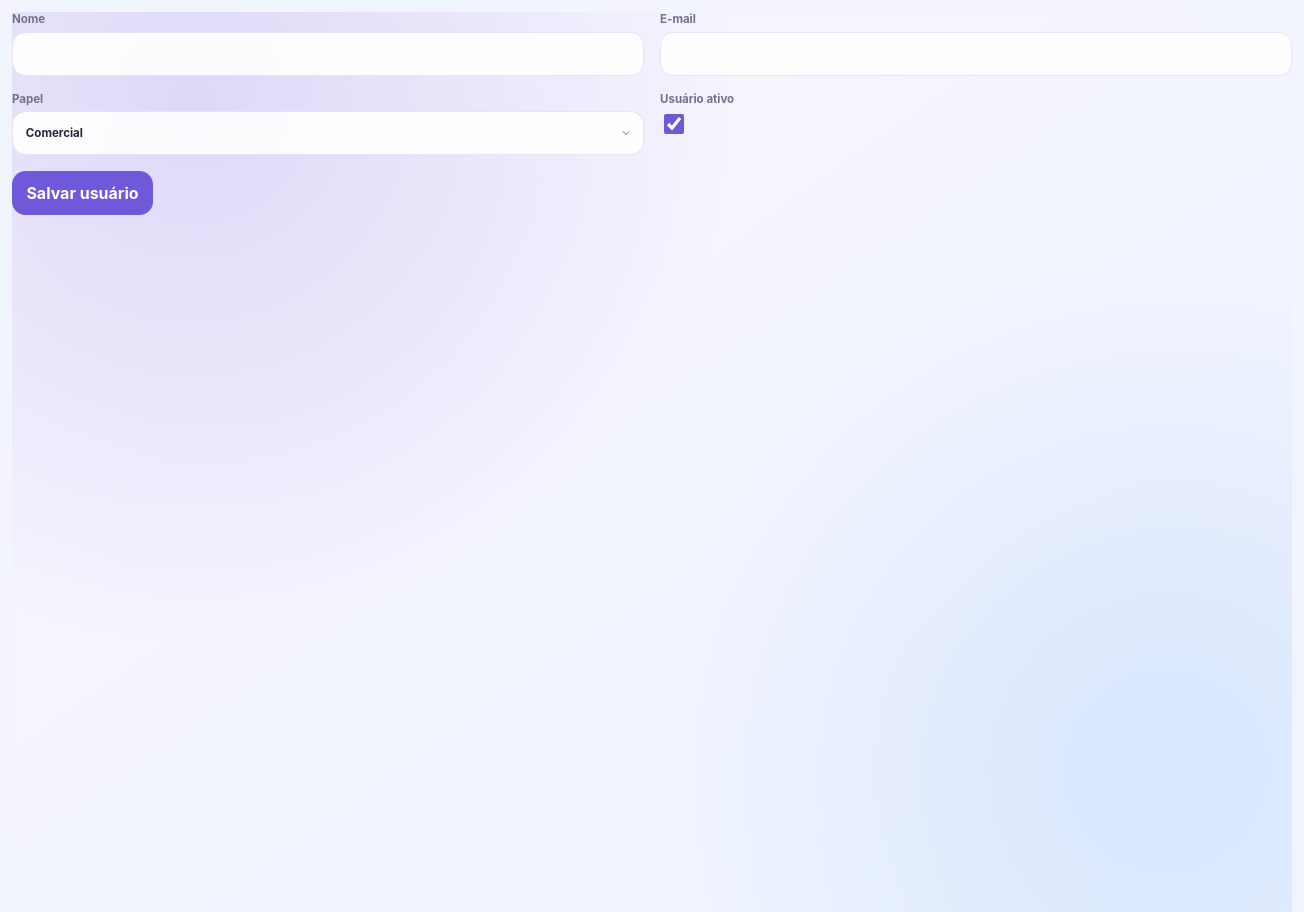
administração de usuários › valida e cria um usuário simulado com nome, email, papel e estado ativo
This screenshot has width=1304, height=912.
Step 1. Click the button "Salvar usuário" → (82, 193), box [12,171,153,215]
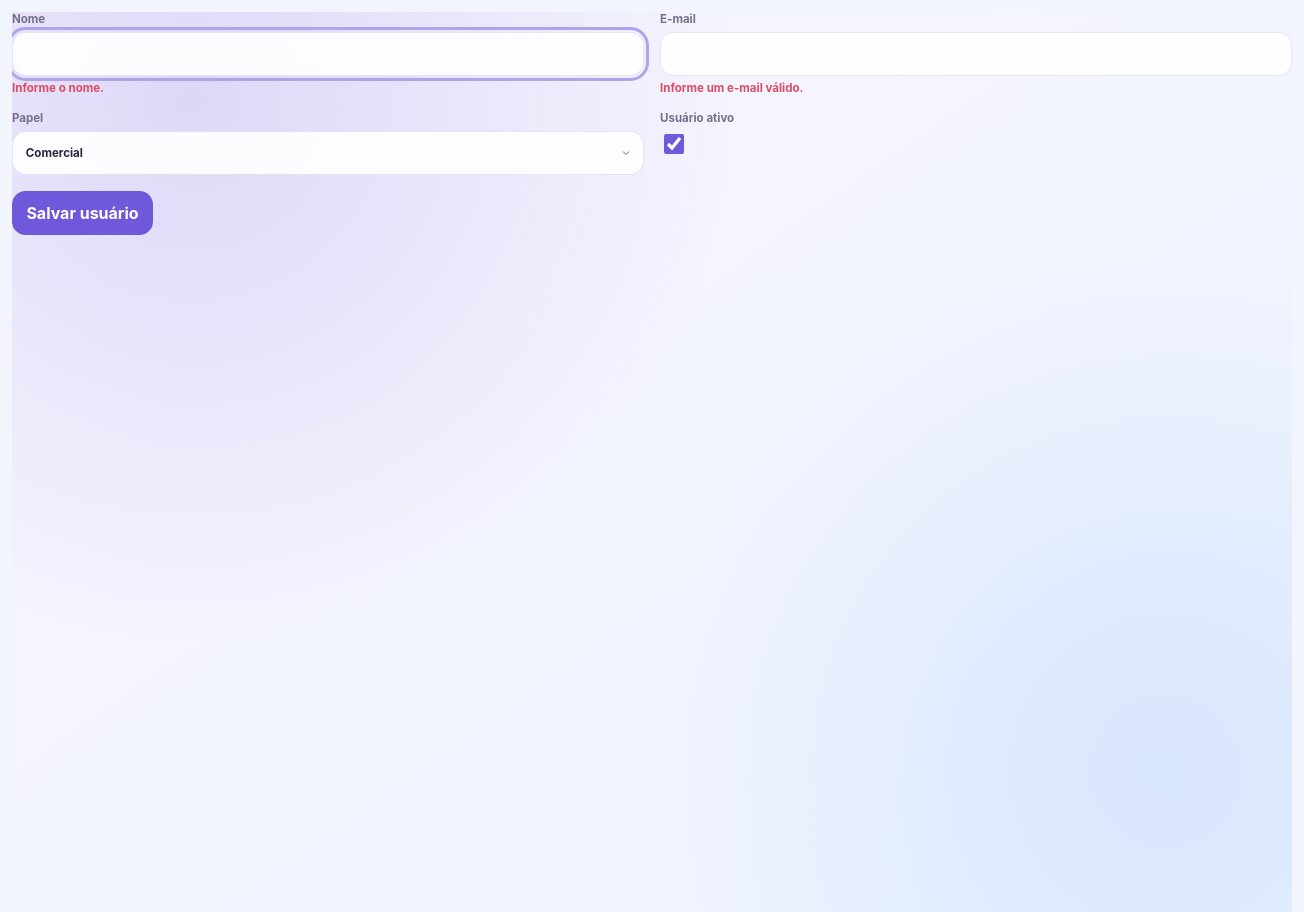
Now the text "Informe o nome." is shown, box [12,81,104,95]
Now the text "Informe um e-mail válido." is shown, box [660,81,803,95]
Step 2. Type "Ana Comercial" into the field labelled "Nome" → (328, 54), box [12,32,644,76]
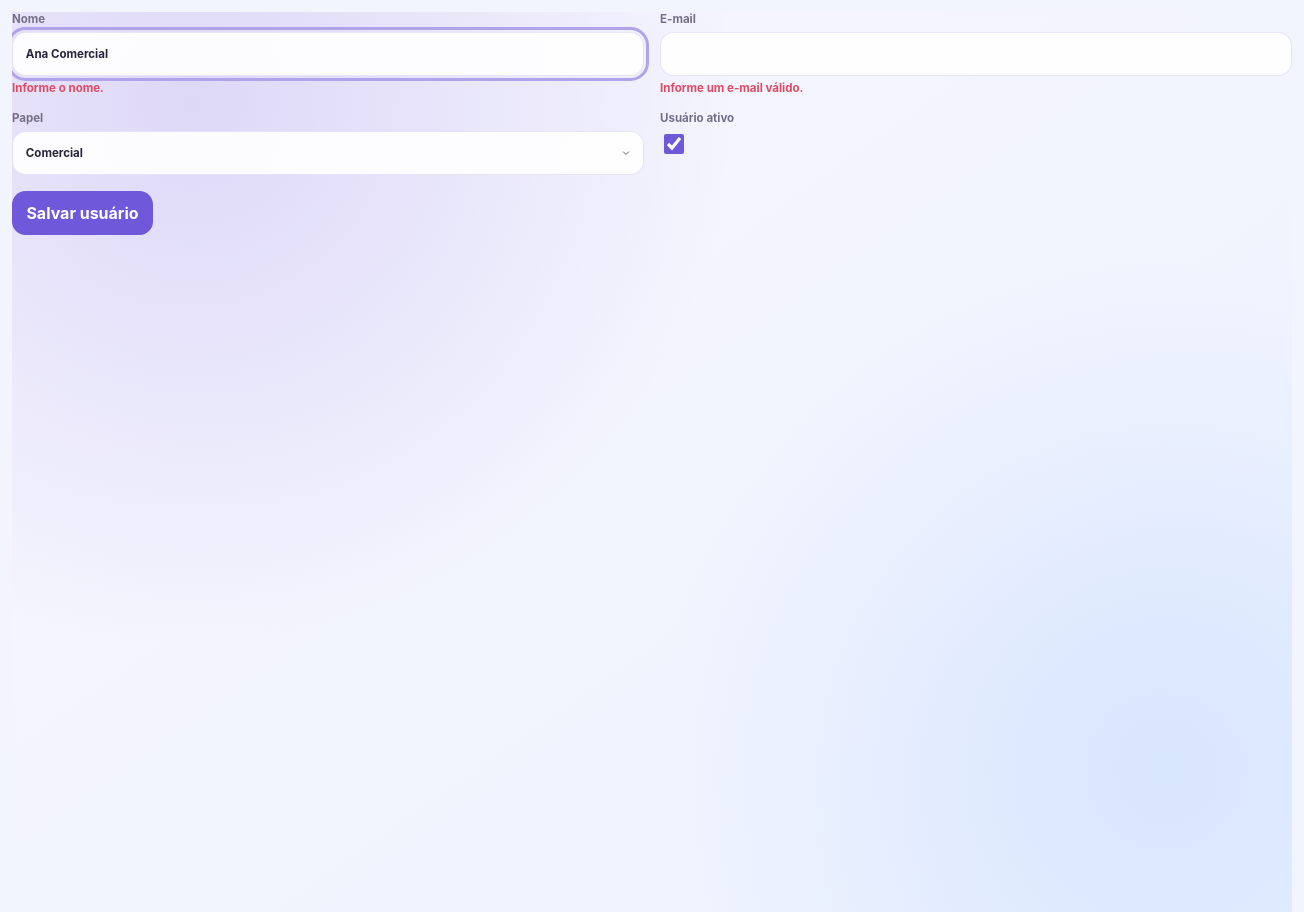
Step 3. Type "ana@ogurarep.local" into the field labelled "E-mail" → (976, 54), box [660,32,1292,76]
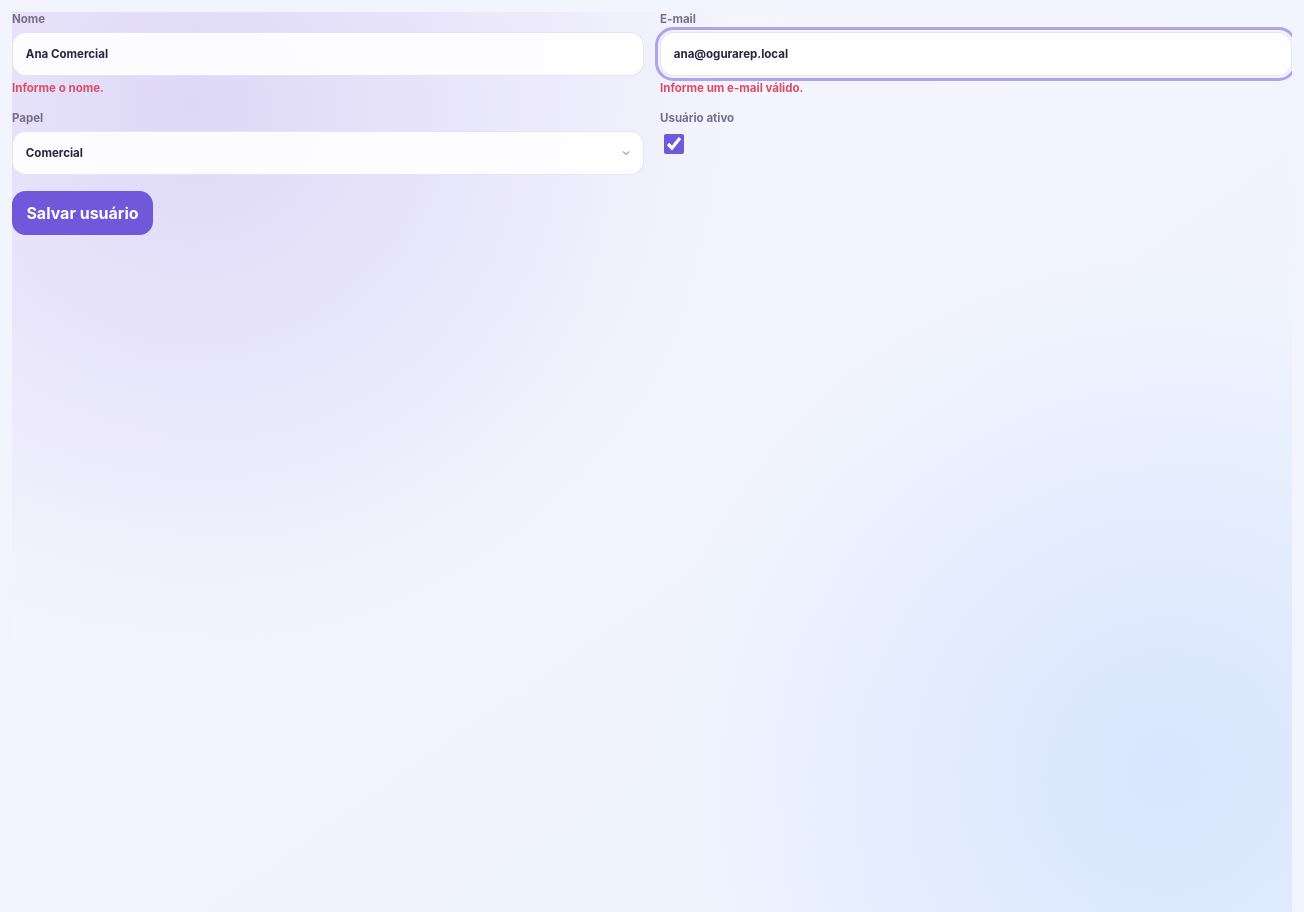
Step 4. Select "Comercial" in the dropdown labelled "Papel" → (328, 153), box [12,131,644,175]
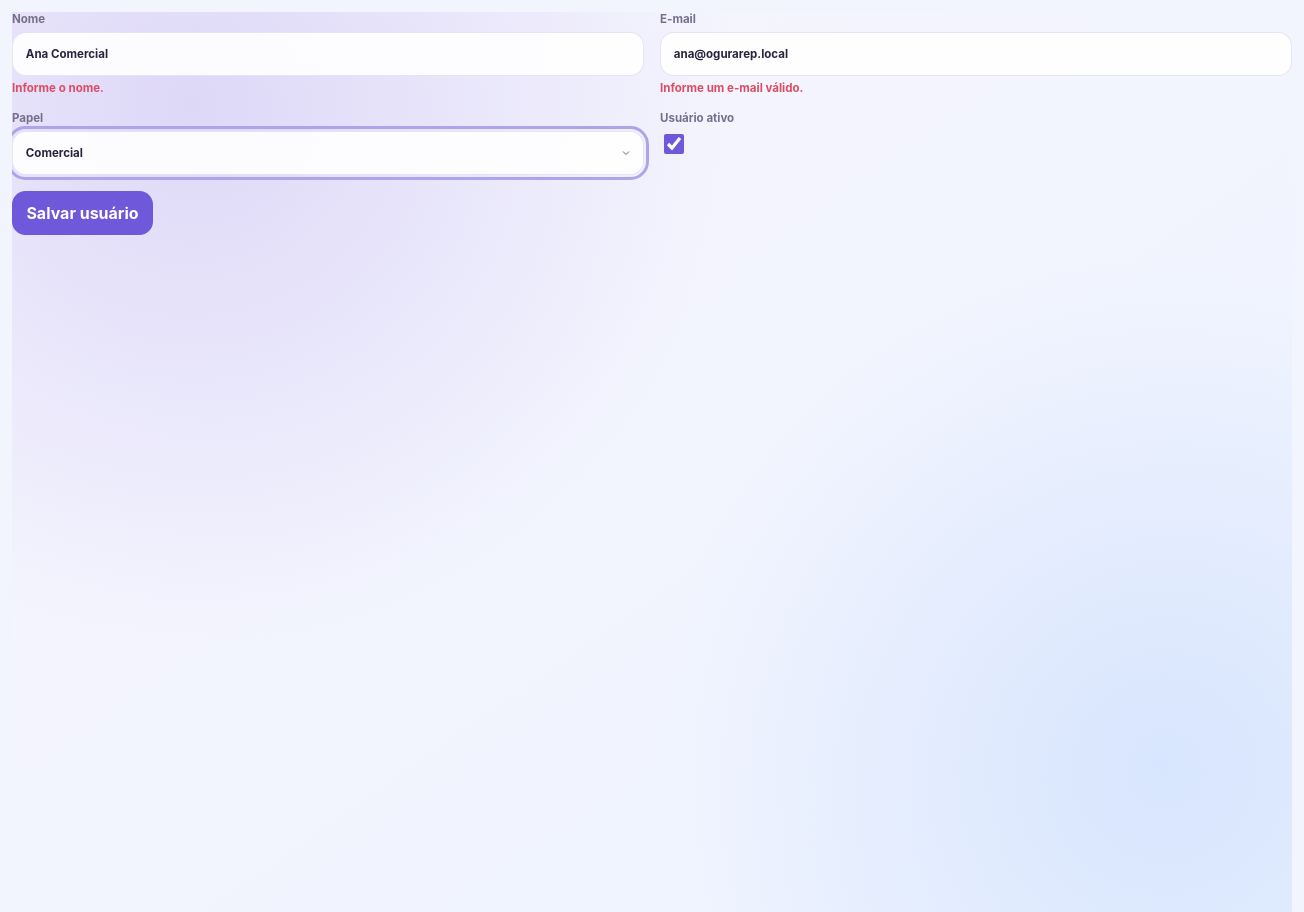
Expected: the checkbox labelled "Usuário ativo" is checked, [664,134,684,154]
Step 5. Click the button "Salvar usuário" → (82, 213), box [12,191,153,235]
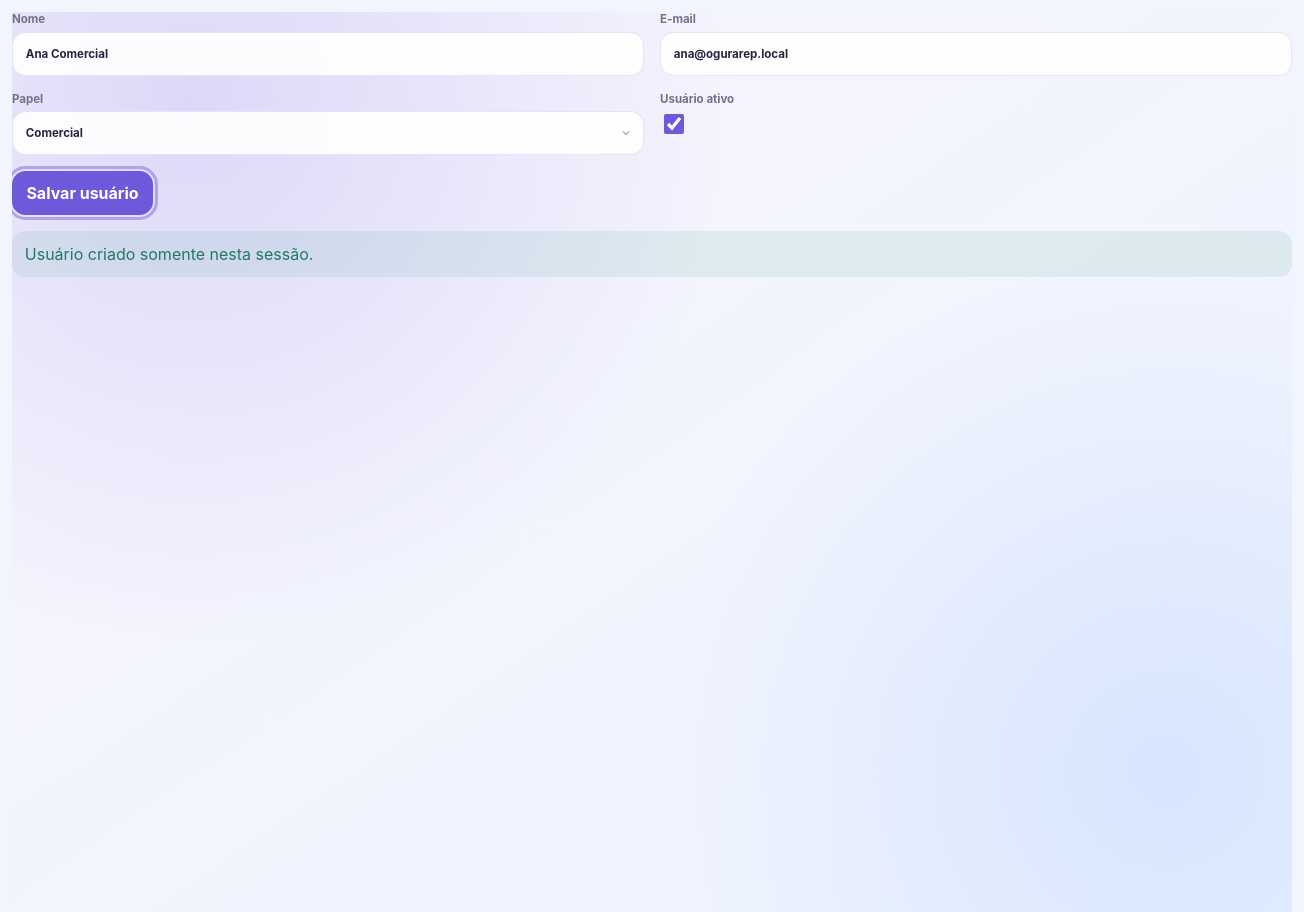
Now the message shows "Usuário criado somente nesta sessão", box [12,231,1292,277]
